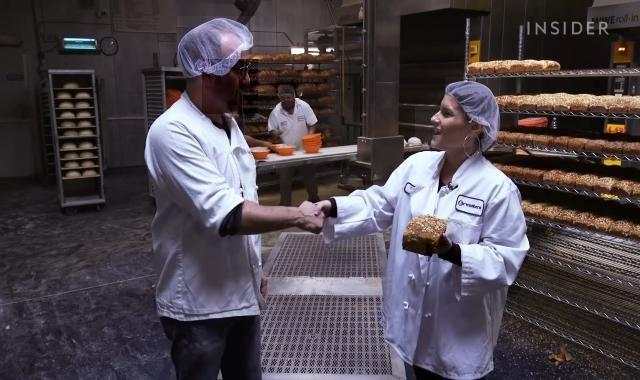gloves: (177, 16, 255, 76), (445, 77, 499, 133), (275, 79, 296, 94)
mask: (276, 98, 299, 114)
no_apron: (427, 220, 464, 262), (287, 200, 326, 235), (312, 195, 344, 217)
no_hairnet: (202, 59, 258, 114), (416, 108, 475, 148)
